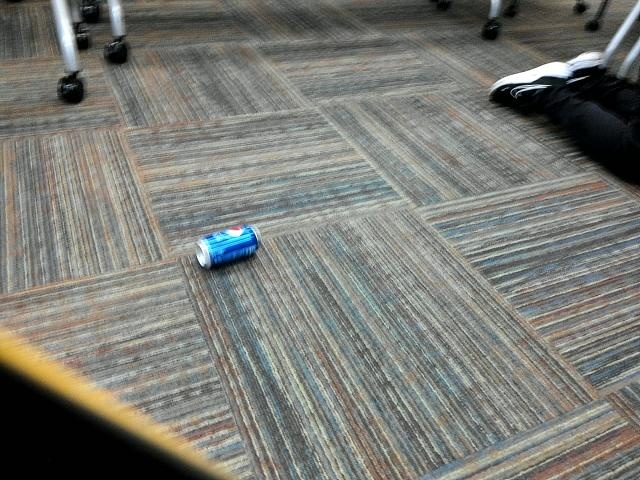can: (178, 213, 271, 278)
